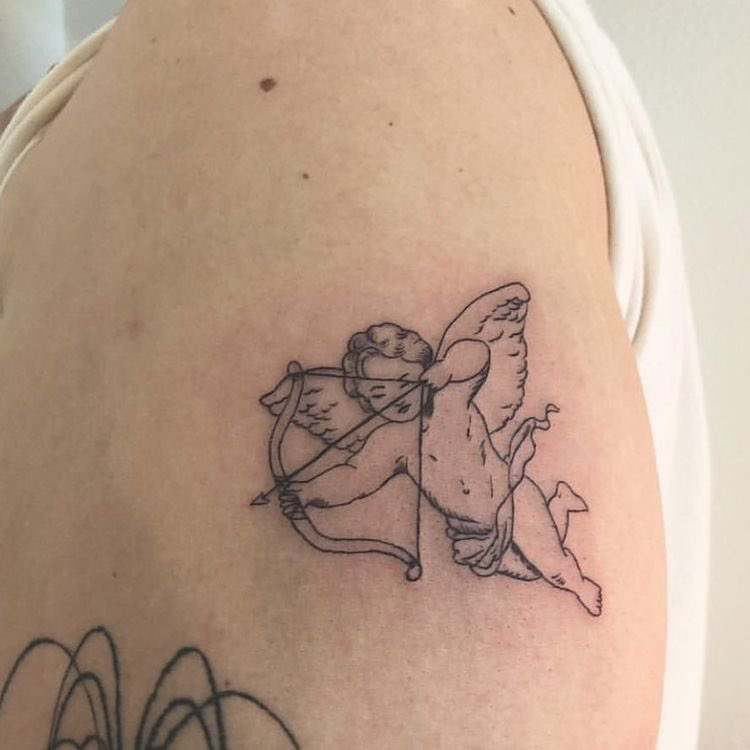tatu1_angel: (245, 273, 607, 618)
